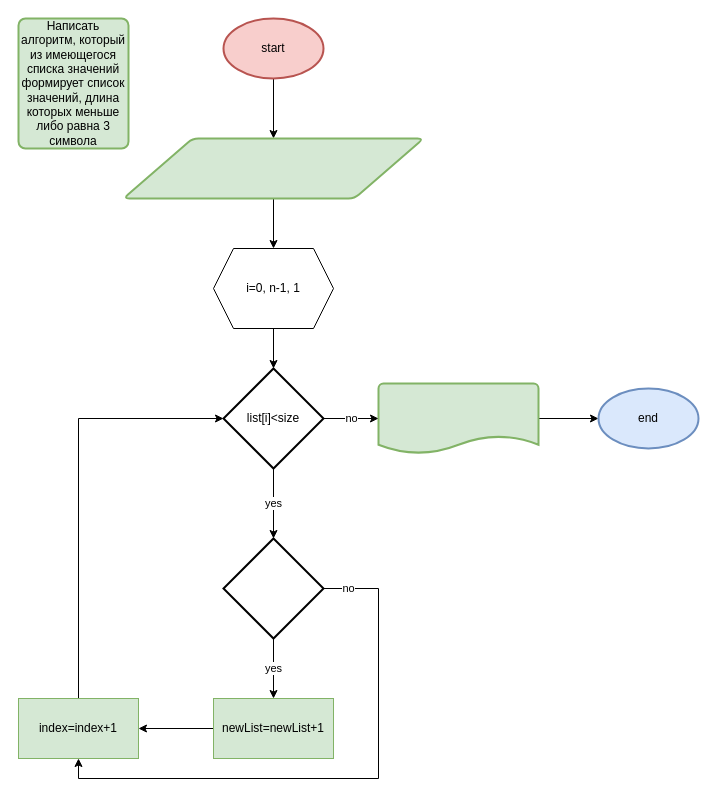
Image size: 716x804. Some labels were removed from this diagram. Each missing label, with the centre of its shape:
list=["hello", 1, "world", 2, "cat", 3] newList=[] smallest=3: (273,168)
list[i]<=smallest: (273,588)
print newList=[1, 2, "cat", 3], list=["hello", "world"]: (458,418)
